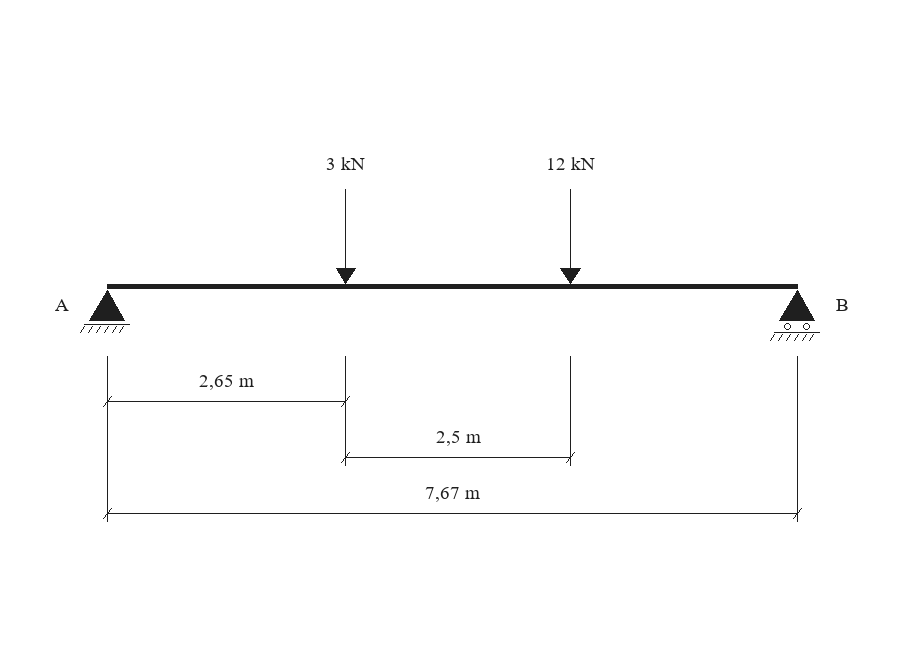pin_support: (80, 290, 130, 333)
point_load: (560, 189, 581, 284), (336, 189, 356, 284)
roller_support: (770, 290, 820, 341)
